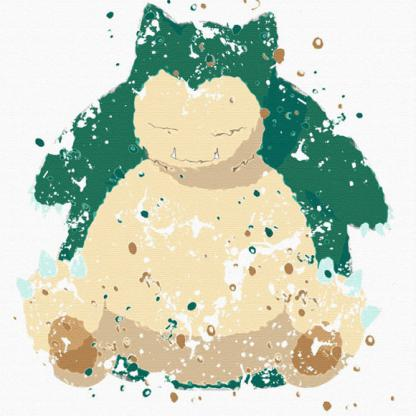Snorlax: (20, 11, 384, 401)
